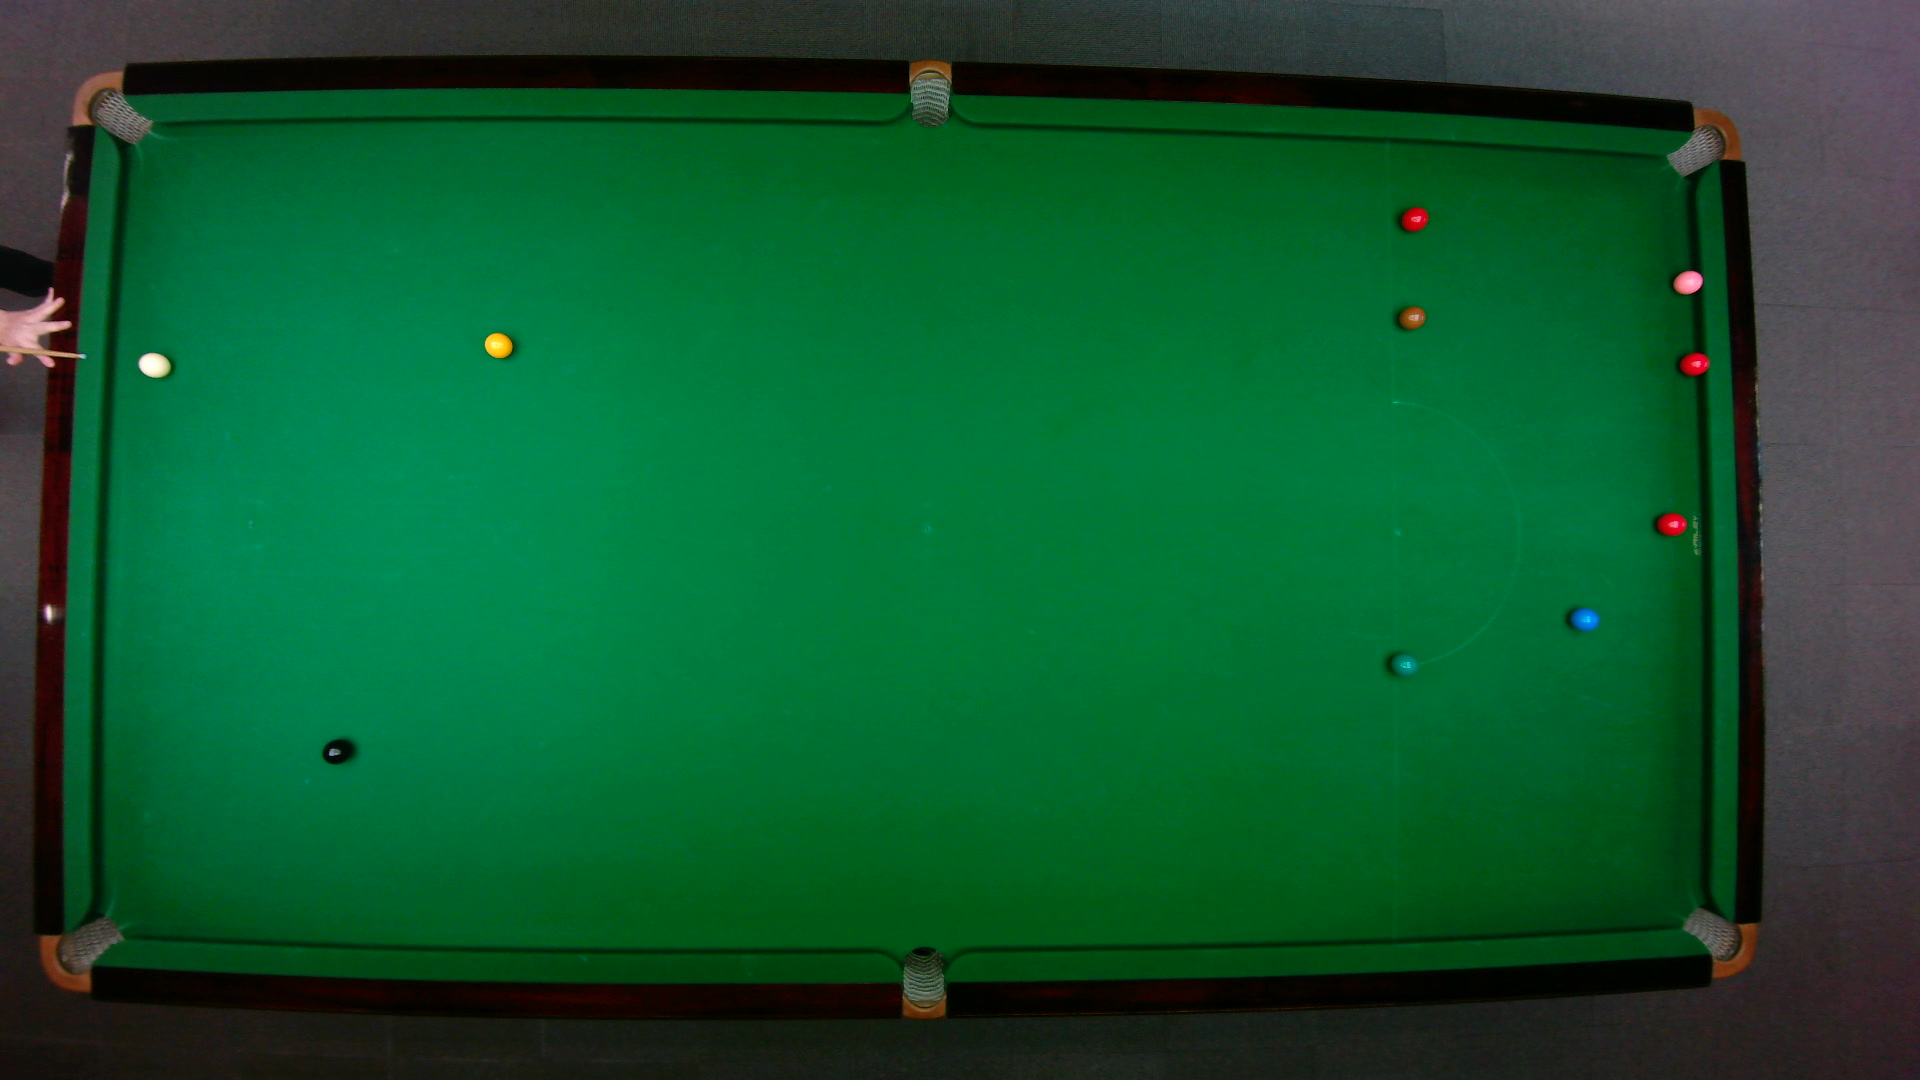bag: (38, 914, 125, 993), (69, 69, 153, 145), (1677, 905, 1756, 978), (1663, 107, 1741, 177), (901, 944, 944, 1021), (909, 58, 949, 128)
black: (320, 737, 352, 765)
blue: (1568, 605, 1600, 632)
brown: (1396, 305, 1427, 328)
cue: (0, 339, 88, 363)
green: (1389, 650, 1418, 676)
pink: (1671, 268, 1704, 295)
red: (1677, 349, 1712, 376), (1398, 204, 1429, 232), (1654, 510, 1688, 535)
white: (135, 349, 171, 378)
yellow: (481, 330, 513, 359)
zone: (1390, 400, 1520, 667)
